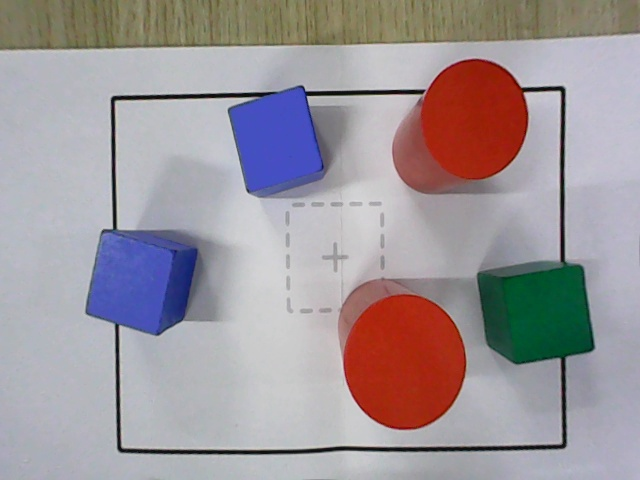upside of cylinder: (343, 295, 467, 433), (422, 58, 530, 180)
upside of small cube: (227, 85, 324, 192), (85, 231, 176, 337), (503, 265, 594, 365)
